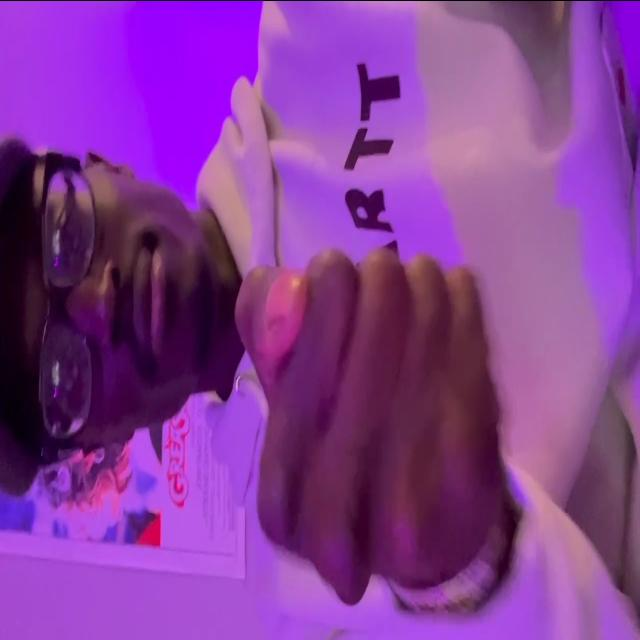Rock: (232, 246, 502, 610)
